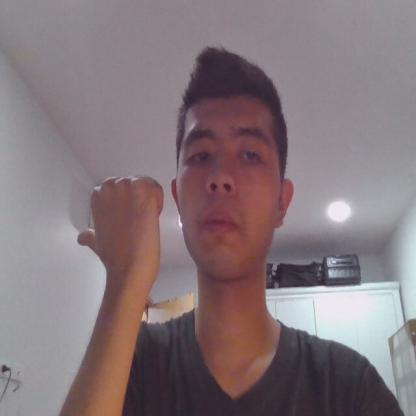right: (76, 172, 168, 276)
